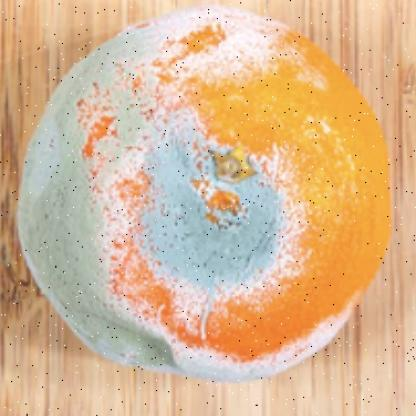rotten: (20, 10, 397, 382)
